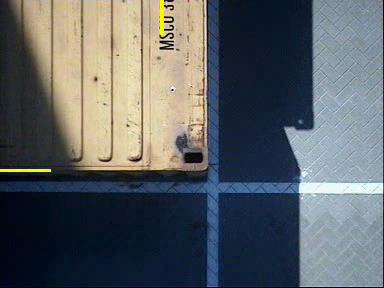groundmarker_2: (10, 28, 162, 104)
